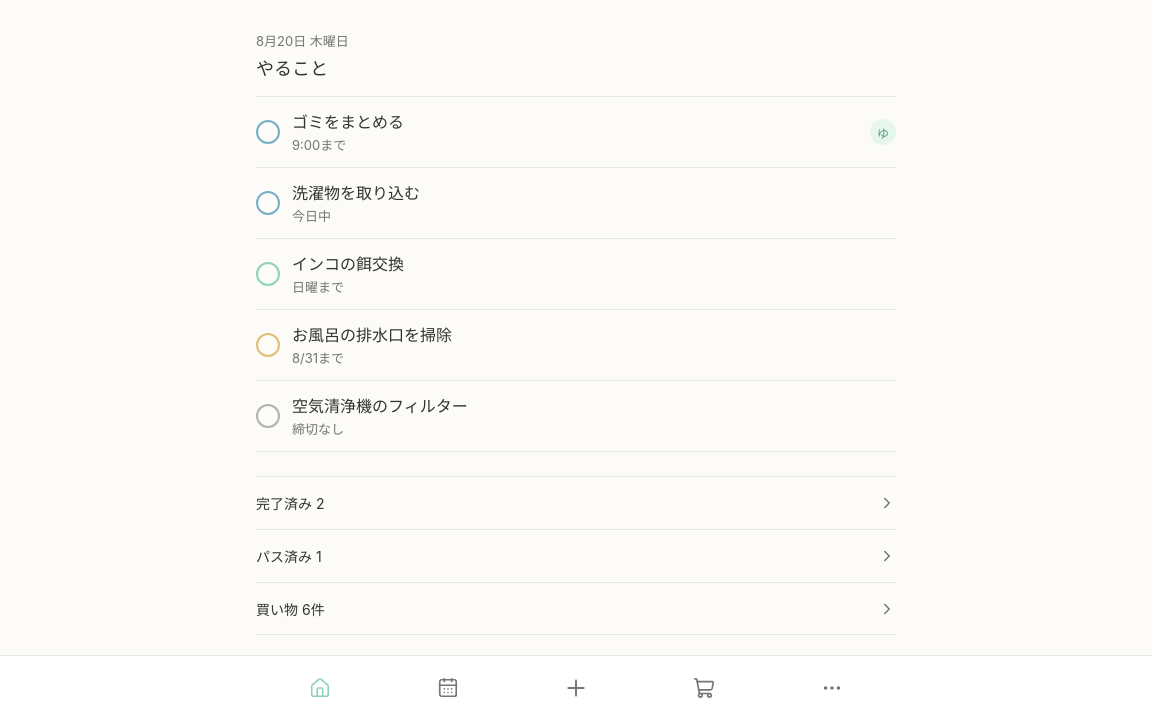
Test: hash routing › can navigate to /shopping through bottom navigation
Click the link named "買い物". click: (704, 688)
box: [693,677,715,699]
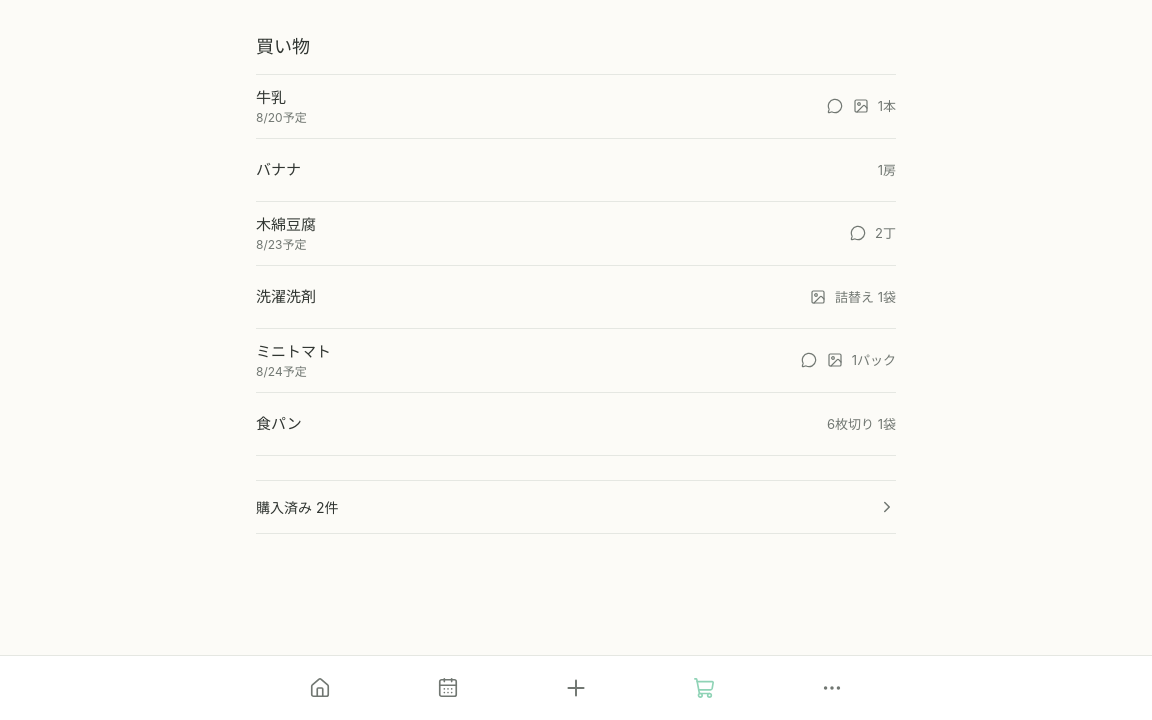
Result: the heading "買い物" is shown at [256,36,310,57]
